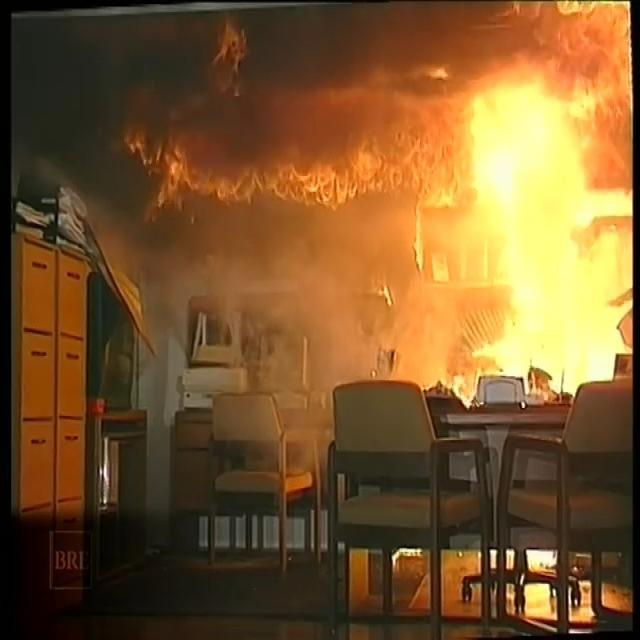Fire: (448, 3, 626, 380)
